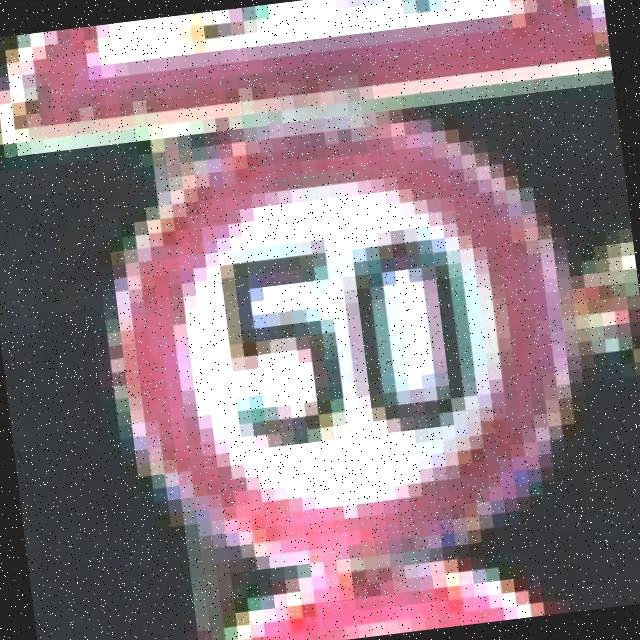Ograniczenie predkosci do 50: (96, 105, 582, 584)
